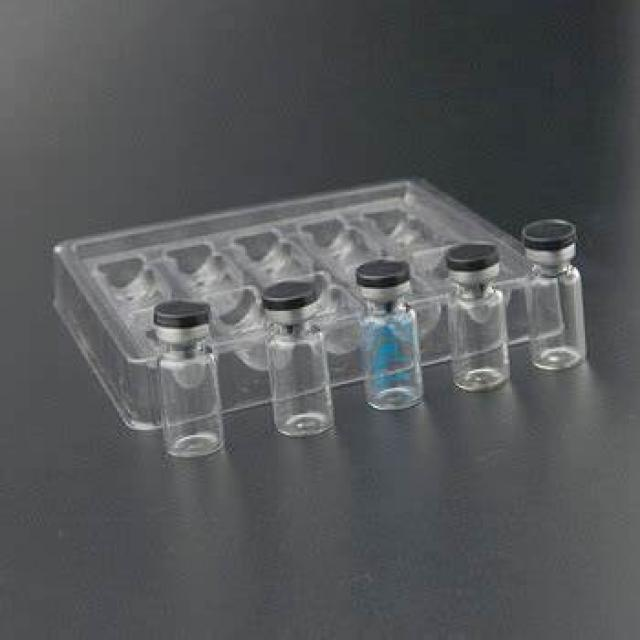vial: (151, 298, 213, 330), (444, 240, 509, 268), (518, 216, 576, 247), (256, 279, 317, 301), (358, 263, 418, 284)
